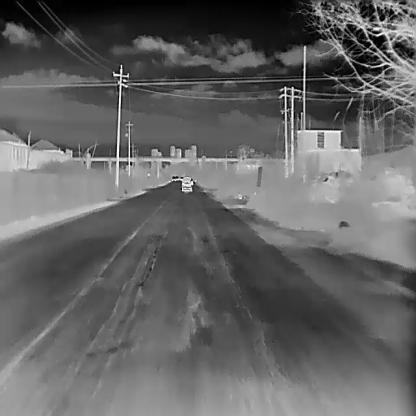car: (181, 175, 192, 191), (174, 175, 179, 180), (171, 175, 176, 180)
